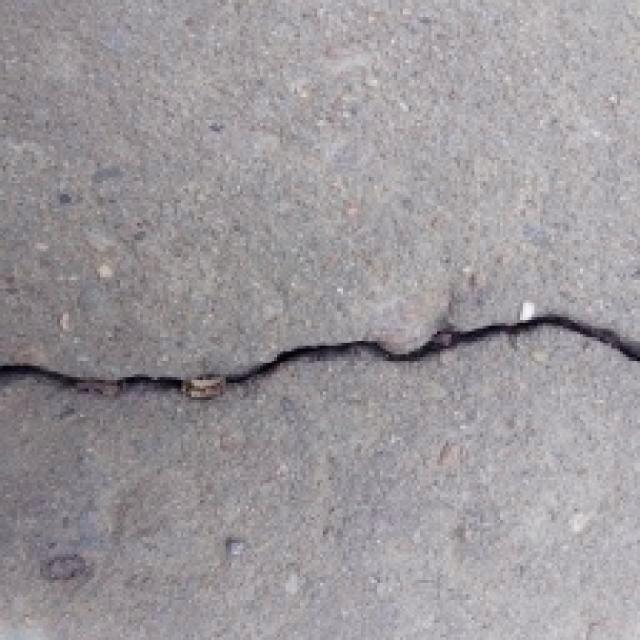crack: (0, 278, 640, 436)
